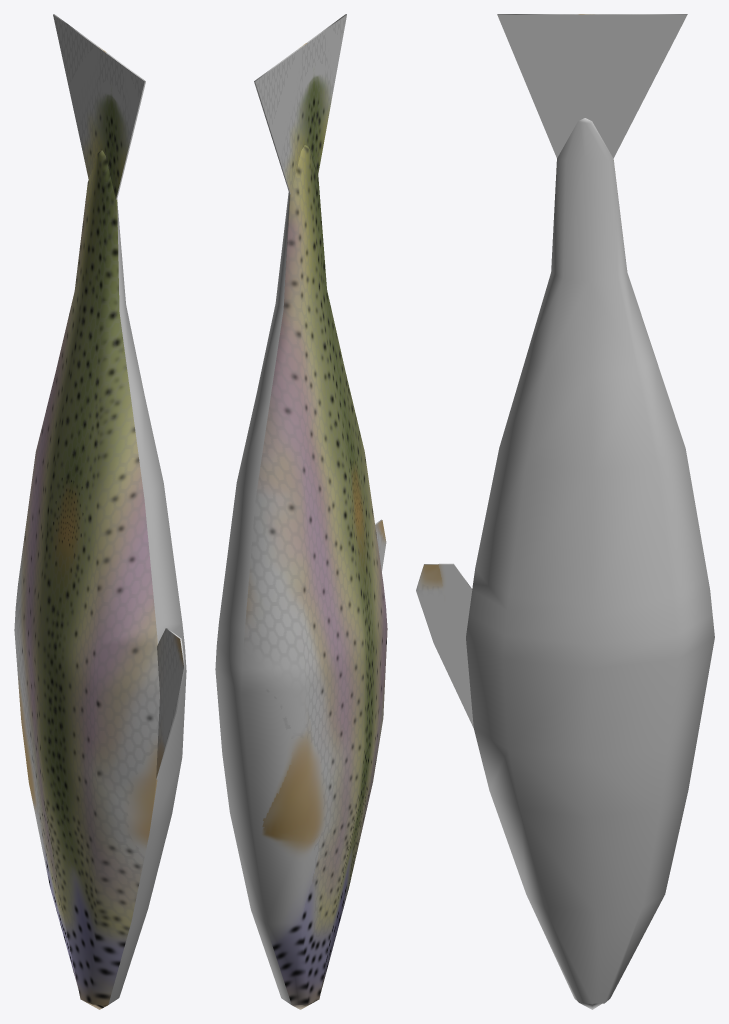
The picture shows the model from 3 angles, left to right: view 1: azimuth 30°, elevation 25°; view 2: azimuth 150°, elevation 25°; view 3: azimuth 270°, elevation 25°; orthographic projection. The views are drawn at different scales.
Bounding box in the file's own units: 0.1359 × 1 × 0.2721.
